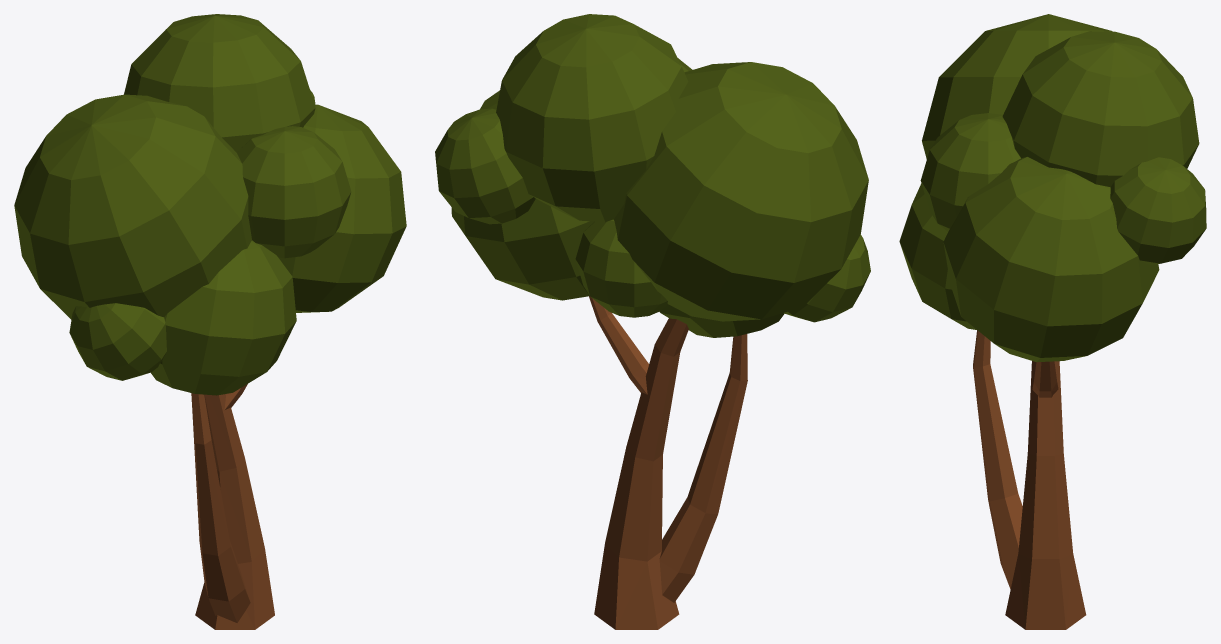
The model's file is tree3.dae.
3 views of the same model, side by side, from view 1: azimuth 30°, elevation 25°; view 2: azimuth 150°, elevation 25°; view 3: azimuth 270°, elevation 25° (orthographic). The views are drawn at different scales.
Parts seen in each view (by area): view 1: Sphere, Cylinder; view 2: Sphere, Cylinder; view 3: Sphere, Cylinder.
Part boxes in pixels (x1,y1,x2,y2): Sphere: (14, 14, 406, 395); Cylinder: (191, 384, 274, 629); Sphere: (435, 14, 870, 337); Cylinder: (589, 296, 747, 629); Sphere: (899, 14, 1206, 362); Cylinder: (973, 330, 1086, 629).
Bounding box in the file's own units: 9.91 × 14.95 × 7.19.
